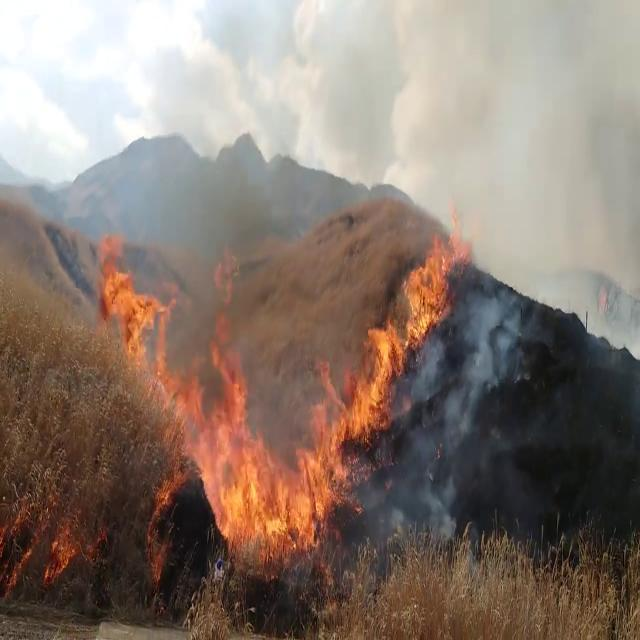Fire: (154, 300, 353, 571), (351, 212, 464, 438), (95, 220, 179, 392), (45, 511, 93, 583)
Smoke: (382, 284, 536, 520)
